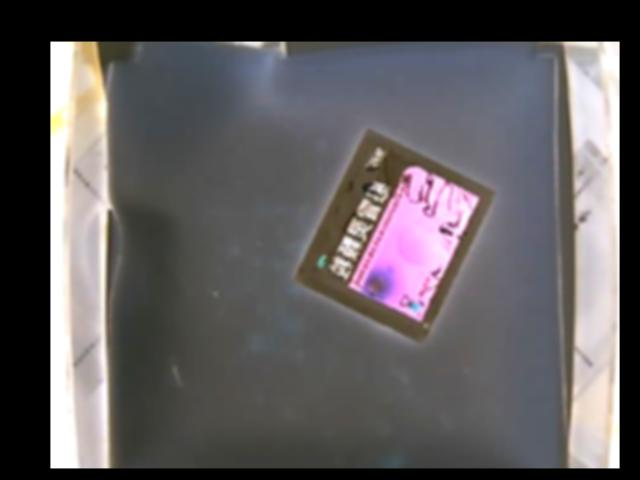Medicine: (293, 128, 498, 343)
